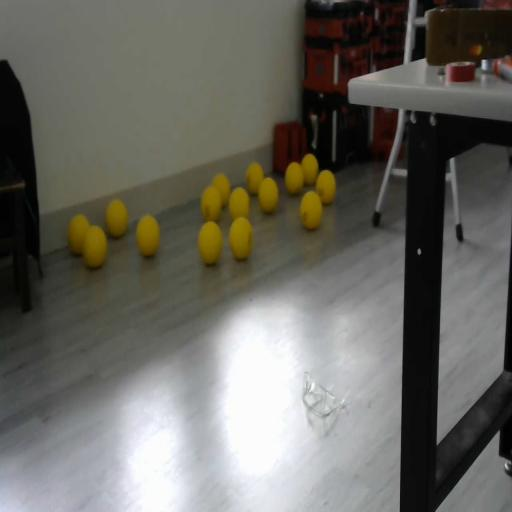FUEL: (197, 219, 224, 265), (228, 215, 254, 261), (135, 214, 161, 258), (299, 189, 323, 230), (68, 212, 90, 256), (104, 198, 128, 238), (228, 186, 250, 221), (258, 177, 279, 213), (211, 171, 231, 207), (316, 168, 336, 204), (300, 152, 319, 186), (284, 162, 304, 194), (246, 162, 264, 194)
